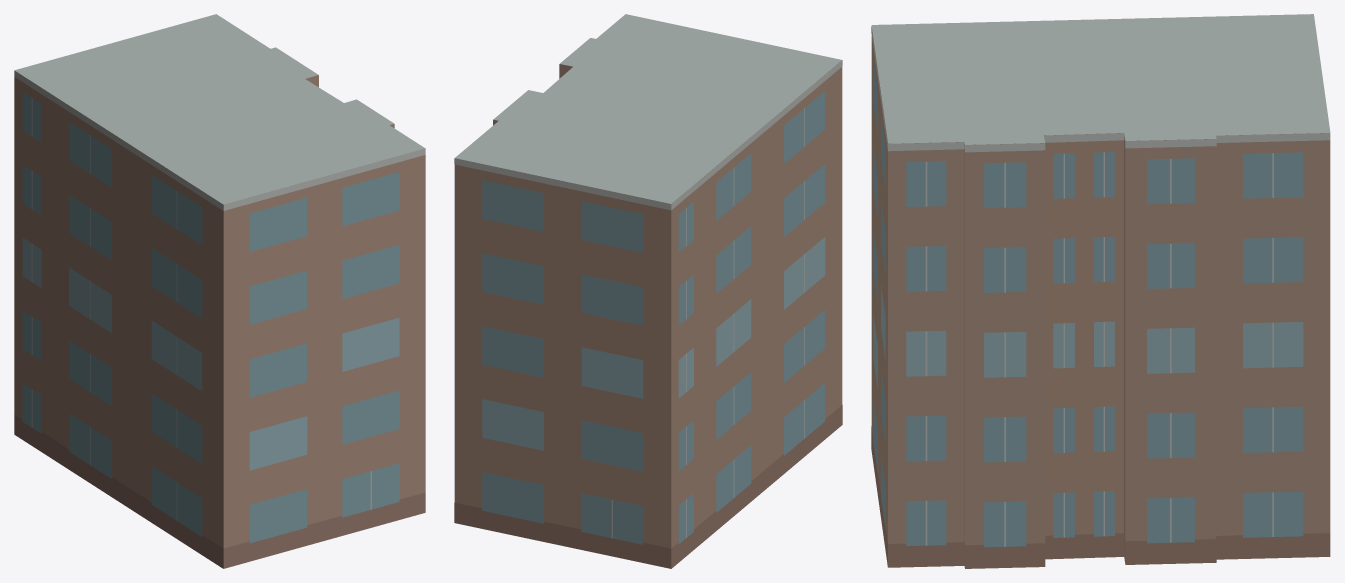
Rendered from survey-upis-32913506.glb.
The picture shows the model from 3 angles, left to right: view 1: azimuth 30°, elevation 25°; view 2: azimuth 150°, elevation 25°; view 3: azimuth 270°, elevation 25°; orthographic projection. The views are drawn at different scales.
Visible parts, largest first — view 1: survey-upis-32913506.tmp; view 2: survey-upis-32913506.tmp; view 3: survey-upis-32913506.tmp.
Part boxes in pixels (x1,y1,x2,y2): survey-upis-32913506.tmp: (14, 14, 425, 568); survey-upis-32913506.tmp: (454, 14, 842, 568); survey-upis-32913506.tmp: (871, 14, 1330, 568).
Bounding box in the file's own units: 9.25 × 13.95 × 13.7.
